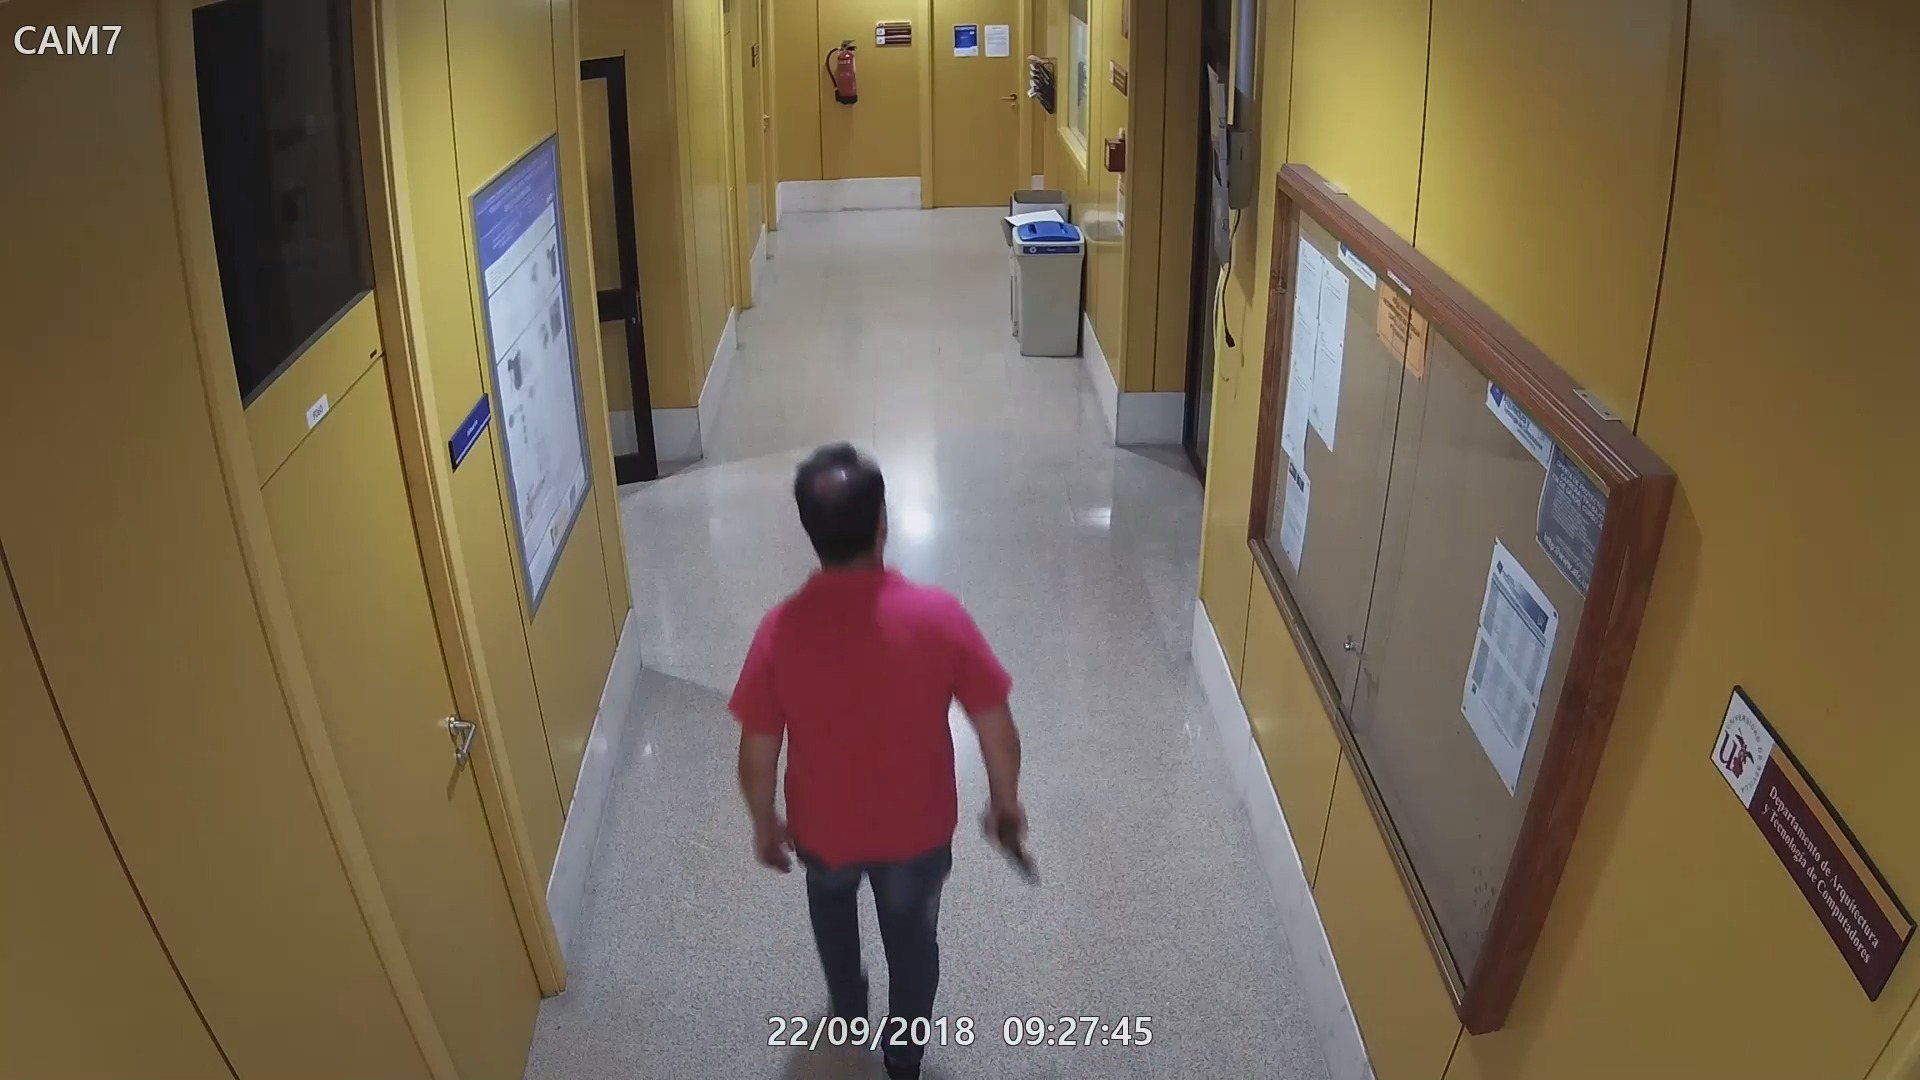Handgun: (975, 806, 1040, 886)
